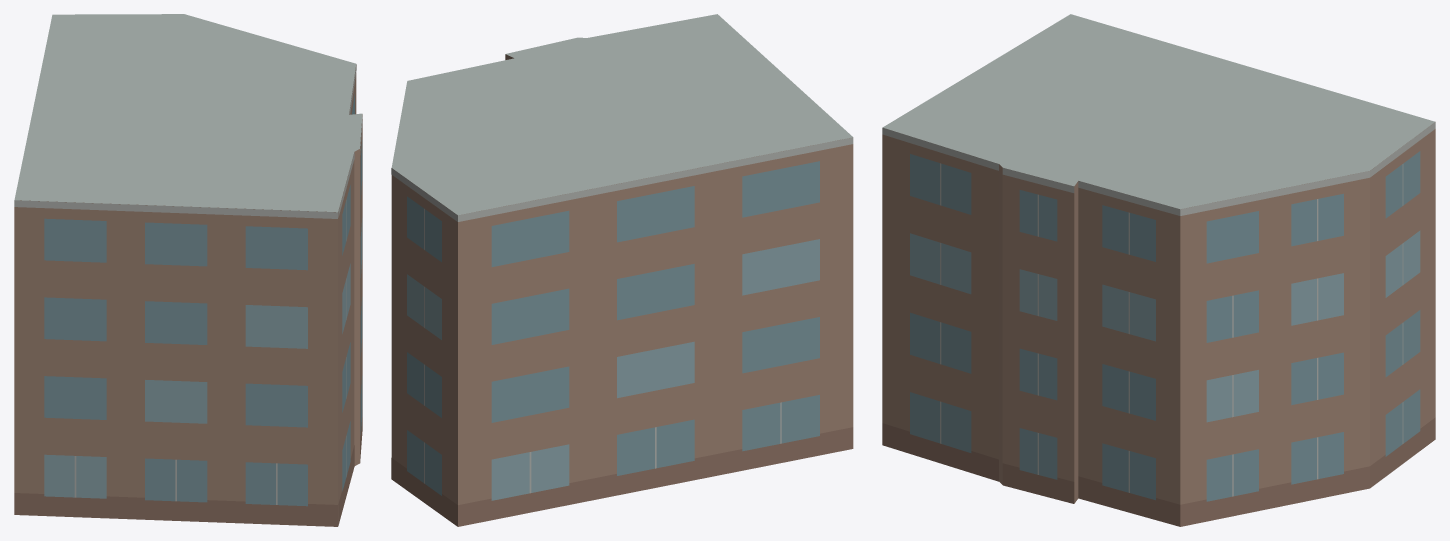
The model's file is survey-upis-32806292.glb.
3 views of the same model, side by side, from view 1: azimuth 30°, elevation 25°; view 2: azimuth 150°, elevation 25°; view 3: azimuth 270°, elevation 25° (orthographic).
Parts seen in each view (by area): view 1: survey-upis-32806292.tmp; view 2: survey-upis-32806292.tmp; view 3: survey-upis-32806292.tmp.
Part boxes in pixels (x1,y1,x2,y2): survey-upis-32806292.tmp: [14, 14, 362, 526]; survey-upis-32806292.tmp: [391, 14, 853, 526]; survey-upis-32806292.tmp: [882, 14, 1435, 526].
Size of the model in its own units: 14.77 by 11.2 by 17.68.
